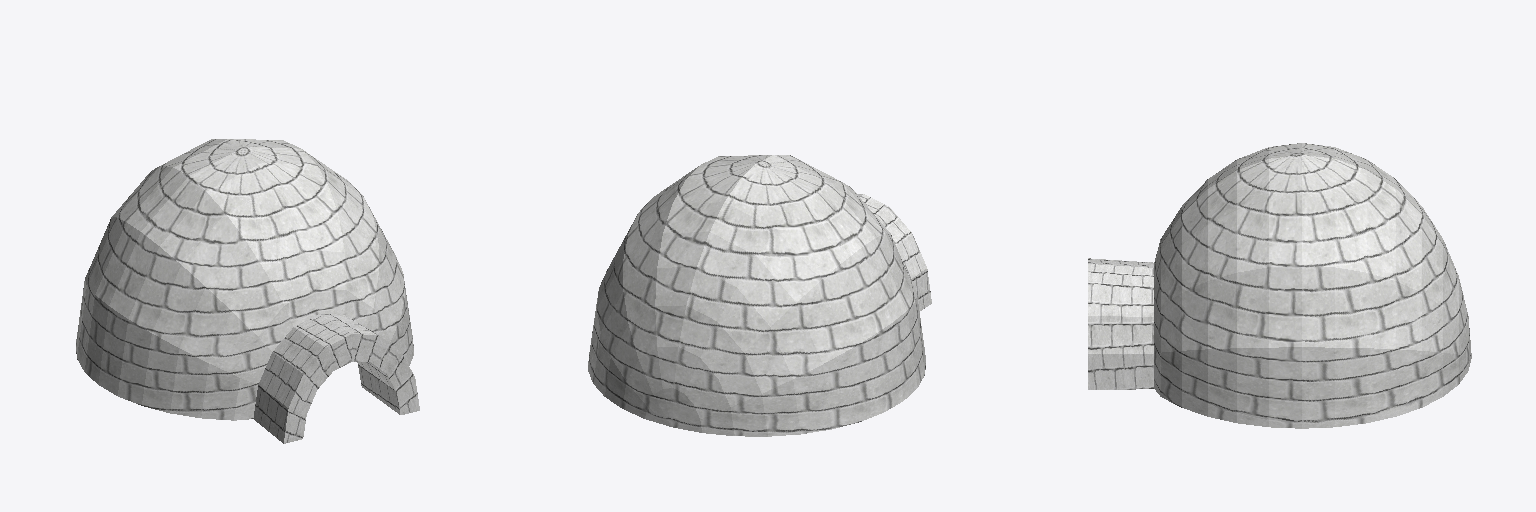
3 renders of one model, left to right at view 1: azimuth 30°, elevation 25°; view 2: azimuth 150°, elevation 25°; view 3: azimuth 270°, elevation 25°, orthographic.
Size of the model in its own units: 2.31 by 1.52 by 2.61.
Materials: 1 (1 with a texture image).